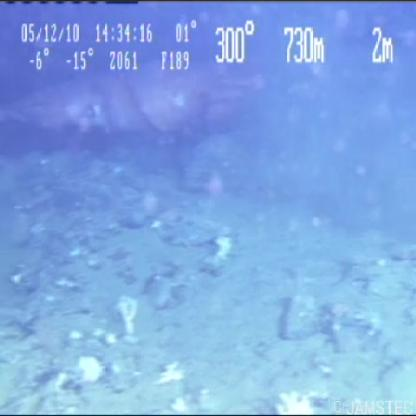Bio: (1, 48, 282, 146)
